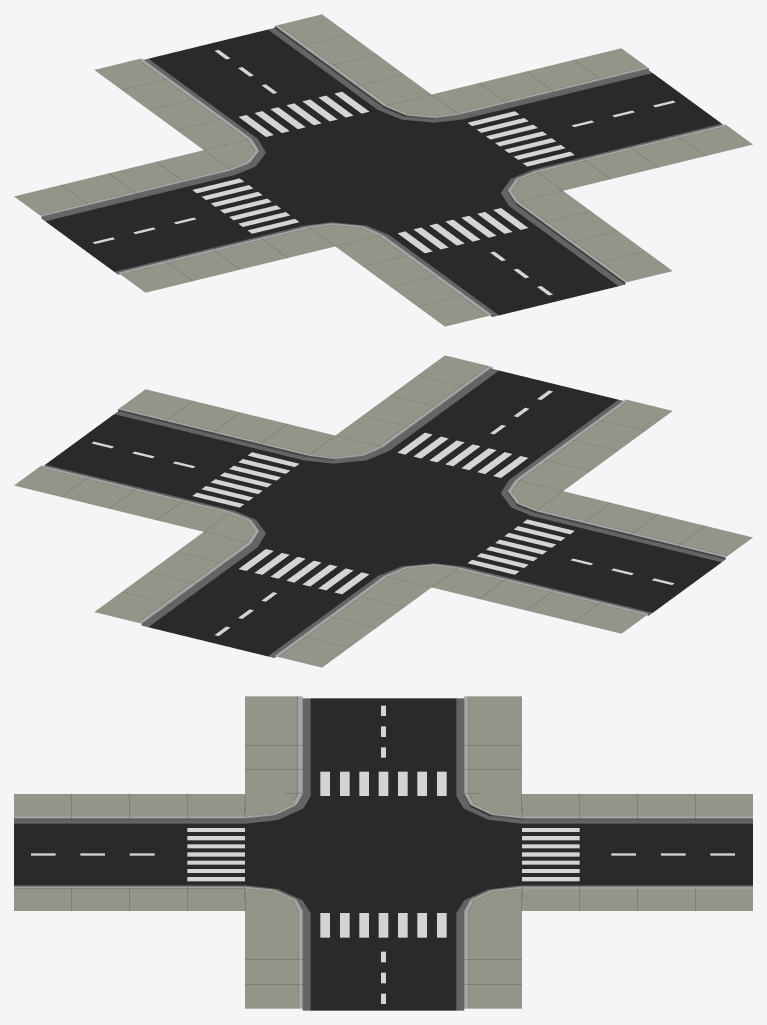
Rendered from Road-X.fbx.
3 views of the same model, one above another, from view 1: azimuth 30°, elevation 25°; view 2: azimuth 150°, elevation 25°; view 3: azimuth 270°, elevation 25° (orthographic). The views are drawn at different scales.
Visible parts, largest first — view 1: Road, Sides; view 2: Road, Sides; view 3: Road, Sides.
Boxes of the visible parts, box(x1,y1,x2,y2) form: Road: box(41, 28, 722, 316); Sides: box(14, 14, 752, 326); Road: box(44, 369, 725, 657); Sides: box(14, 355, 752, 667); Road: box(14, 698, 752, 1010); Sides: box(14, 696, 752, 1008).
Size of what is drawn, in the model's own units: 64 by 0.2 by 64.
